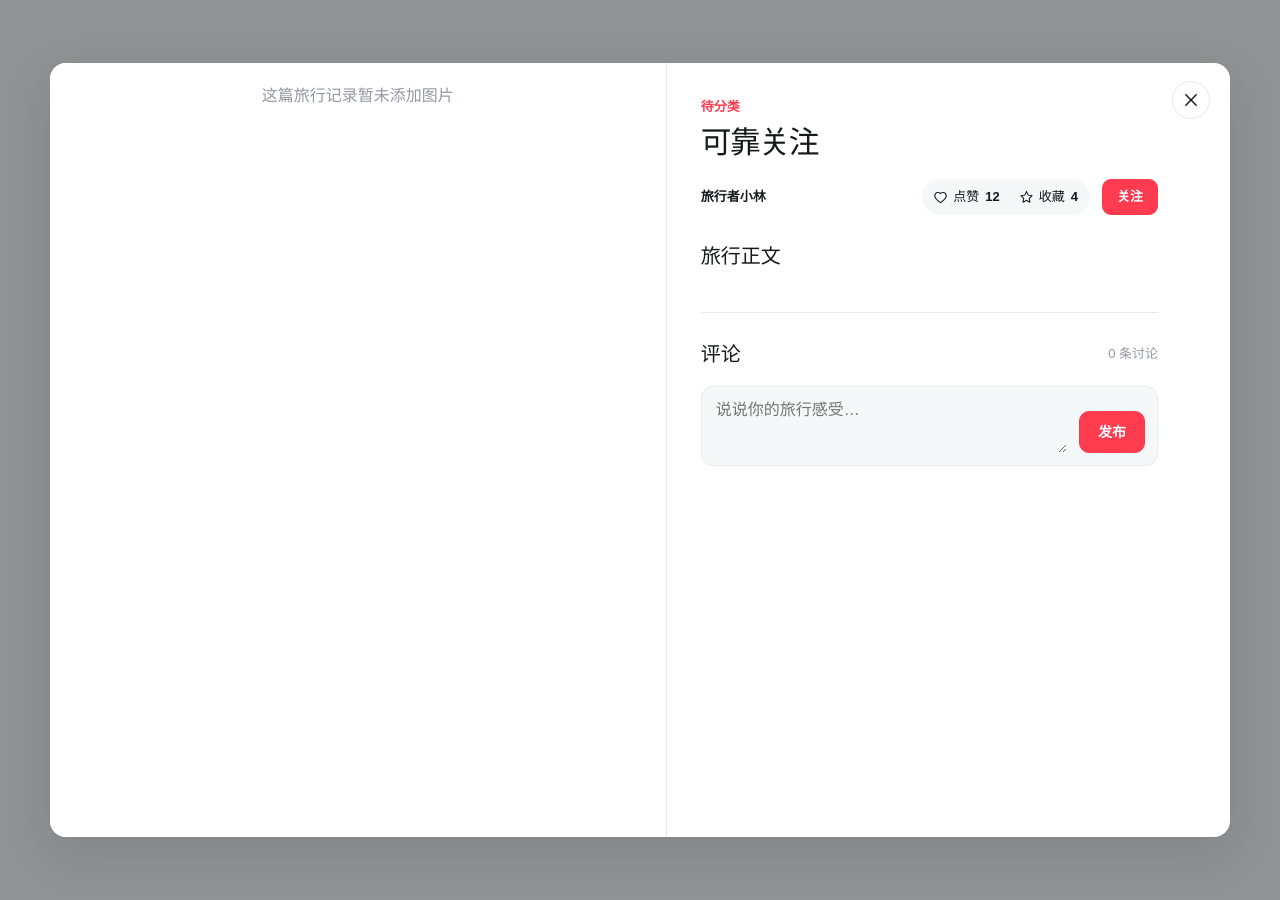
Scenario: 帖子详情 › 关注作者后采用服务端确认的关系状态
Click the button with aria-label "关注作者": click(1130, 197) [1102,179,1158,215]
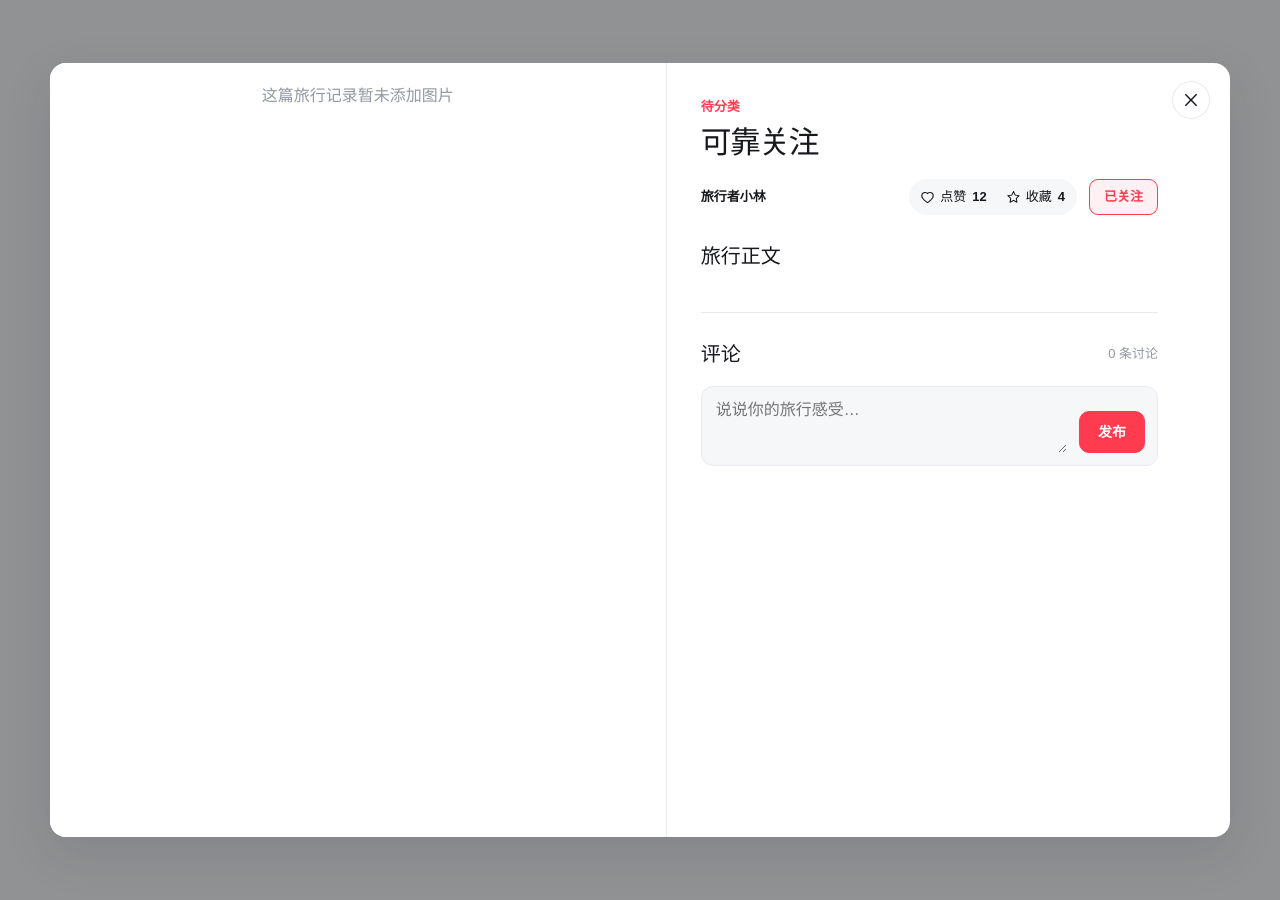
Check: the button with aria-label "关注作者" reads "已关注", box [1089,179,1158,215]
